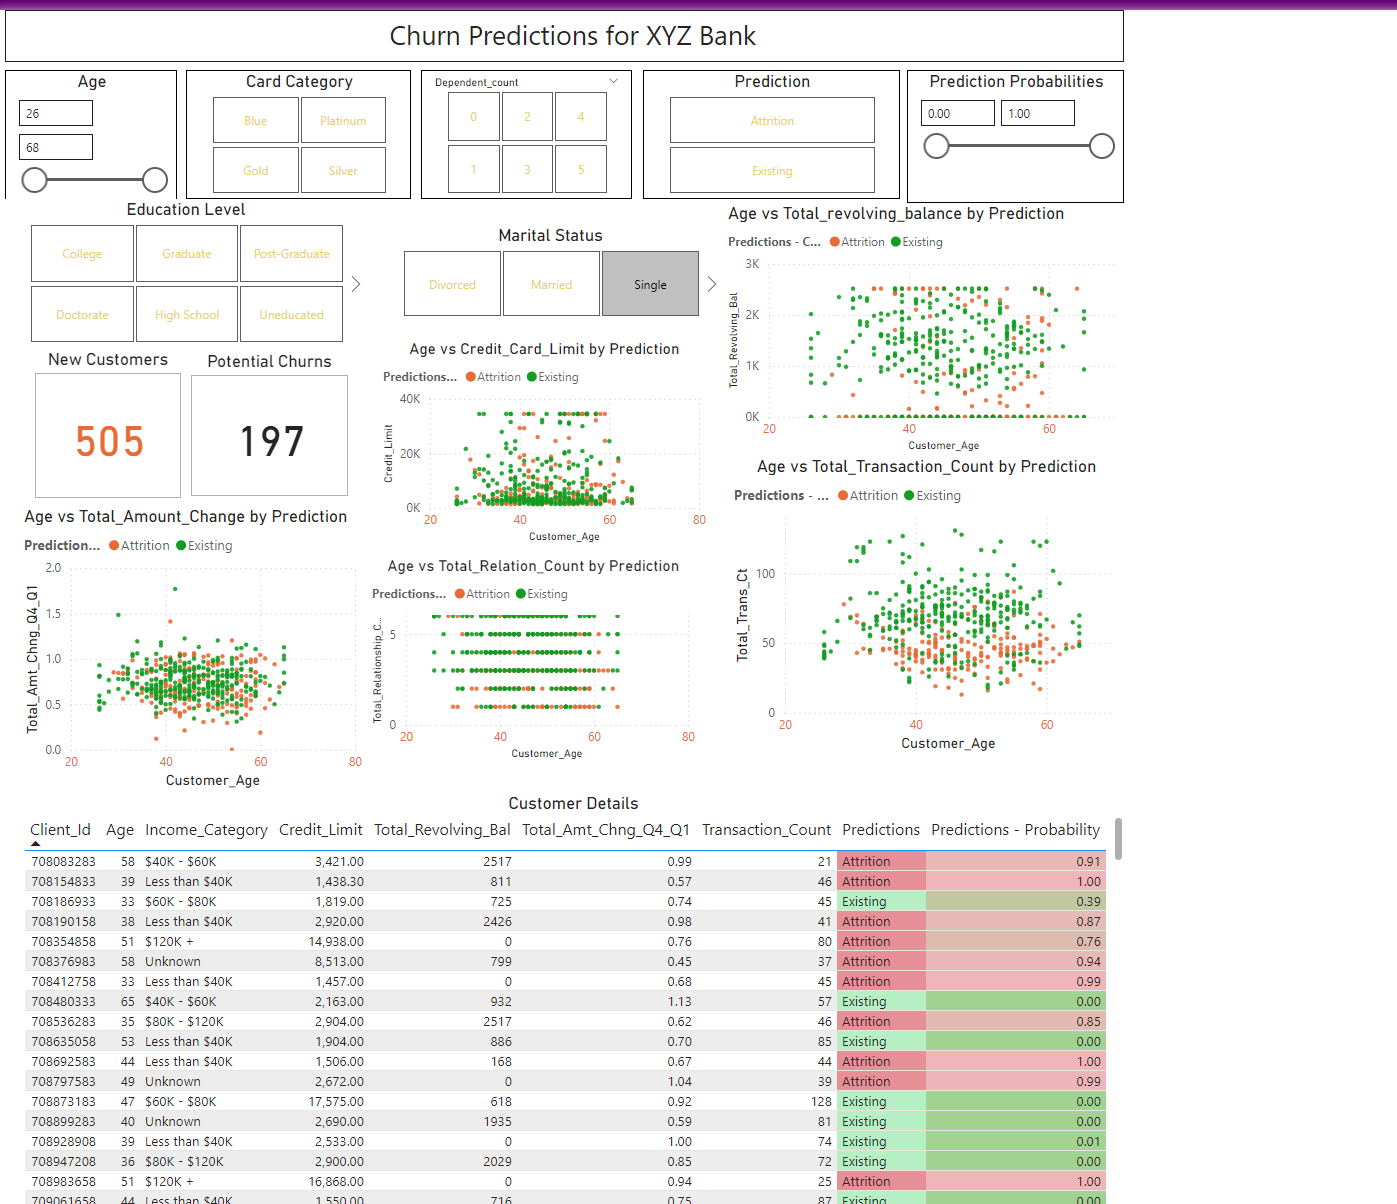

This screenshot's page, from the dashboard's own definition file:
{"tool":"powerbi","page":{"name":"Churn prediction for new users","canvas":[1500,1300],"ordinal":2},"visuals":[{"type":"textbox","box":[10,0,1119,52],"z":0},{"type":"slicer","title":"Age","fields":{"Values":["ChurnPredictionsOutput.Customer_Age"]},"box":[10,60,172,137],"z":1000},{"type":"slicer","title":"Marital Status","fields":{"Values":["ChurnPredictionsOutput.Marital_Status"]},"box":[383,215,345,98],"z":2000},{"type":"slicer","fields":{"Values":["ChurnPredictionsOutput.Dependent_count"]},"box":[426,60,211,129],"z":3000},{"type":"slicer","title":"Education Level","fields":{"Values":["ChurnPredictionsOutput.Education_Level"]},"box":[10,189,362,150],"z":4000},{"type":"slicer","title":"Card Category","fields":{"Values":["ChurnPredictionsOutput.Card_Category"]},"box":[191,60,225,129],"z":5000},{"type":"slicer","title":"Prediction","fields":{"Values":["ChurnPredictionsOutput.Predictions - Churn or Not Desc"]},"box":[648,60,257,129],"z":6000},{"type":"slicer","title":"Prediction Probabilities","fields":{"Values":["ChurnPredictionsOutput.Predictions - Probability to Churn"]},"box":[912,60,217,133],"z":7000},{"type":"cardVisual","title":"Potential Churns","fields":{"Data":["Sum(ChurnPredictionsOutput.Predictions - Churn or Not)"]},"box":[191,341,167,150],"z":8000},{"type":"tableEx","title":"Customer Details","fields":{"Values":["ChurnPredictionsOutput.CLIENTNUM","ChurnPredictionsOutput.Customer_Age","ChurnPredictionsOutput.Income_Category","ChurnPredictionsOutput.Credit_Limit","ChurnPredictionsOutput.Total_Revolving_Bal","ChurnPredictionsOutput.Total_Amt_Chng_Q4_Q1","ChurnPredictionsOutput.Total_Trans_Ct","ChurnPredictionsOutput.Predictions - Churn or Not Desc","ChurnPredictionsOutput.Predictions - Probability to Churn"]},"box":[24,783,1109,517],"z":9000},{"type":"scatterChart","title":"Age vs Total_Transaction_Count by Prediction","fields":{"X":["Sum(ChurnPredictionsOutput.Customer_Age)"],"Category":["ChurnPredictionsOutput.CLIENTNUM"],"Series":["ChurnPredictionsOutput.Predictions - Churn or Not Desc"],"Y":["Sum(ChurnPredictionsOutput.Total_Trans_Ct)"]},"box":[734,446,395,300],"z":10000},{"type":"scatterChart","title":"Age vs Total_Amount_Change by Prediction","fields":{"X":["Sum(ChurnPredictionsOutput.Customer_Age)"],"Category":["ChurnPredictionsOutput.CLIENTNUM"],"Series":["ChurnPredictionsOutput.Predictions - Churn or Not Desc"],"Y":["Sum(ChurnPredictionsOutput.Total_Amt_Chng_Q4_Q1)"]},"box":[24,496,348,287],"z":11000},{"type":"scatterChart","title":"Age vs Total_revolving_balance by Prediction","fields":{"X":["Sum(ChurnPredictionsOutput.Customer_Age)"],"Y":["Sum(ChurnPredictionsOutput.Total_Revolving_Bal)"],"Category":["ChurnPredictionsOutput.CLIENTNUM"],"Series":["ChurnPredictionsOutput.Predictions - Churn or Not Desc"]},"box":[728,193,408,253],"z":12000},{"type":"cardVisual","title":"New Customers","fields":{"Data":["CountNonNull(ChurnPredictionsOutput.CLIENTNUM)"]},"box":[35,339,156,154],"z":13000},{"type":"scatterChart","title":"Age vs Credit_Card_Limit by Prediction","fields":{"X":["Sum(ChurnPredictionsOutput.Customer_Age)"],"Category":["ChurnPredictionsOutput.CLIENTNUM"],"Series":["ChurnPredictionsOutput.Predictions - Churn or Not Desc"],"Y":["Sum(ChurnPredictionsOutput.Credit_Limit)"]},"box":[383,329,333,208],"z":14000},{"type":"scatterChart","title":"Age vs Total_Relation_Count by Prediction","fields":{"X":["Sum(ChurnPredictionsOutput.Customer_Age)"],"Category":["ChurnPredictionsOutput.CLIENTNUM"],"Series":["ChurnPredictionsOutput.Predictions - Churn or Not Desc"],"Y":["Sum(ChurnPredictionsOutput.Total_Relationship_Count)"]},"box":[372,546,333,208],"z":15000}]}

Visuals, with their boxes in screenshot pixels (x1, y1, x2, y2), scaled from the page's 1500x1300 canvas onto the 1397x1204 screenshot:
textbox: [9, 0, 1051, 48]
"Age" slicer: [9, 56, 170, 182]
"Marital Status" slicer: [357, 199, 678, 290]
slicer - ChurnPredictionsOutput.Dependent_count: [397, 56, 593, 175]
"Education Level" slicer: [9, 175, 346, 314]
"Card Category" slicer: [178, 56, 387, 175]
"Prediction" slicer: [604, 56, 843, 175]
"Prediction Probabilities" slicer: [849, 56, 1051, 179]
"Potential Churns" cardVisual: [178, 316, 333, 455]
"Customer Details" tableEx: [22, 725, 1055, 1203]
"Age vs Total_Transaction_Count by Prediction" scatterChart: [684, 413, 1051, 691]
"Age vs Total_Amount_Change by Prediction" scatterChart: [22, 459, 346, 725]
"Age vs Total_revolving_balance by Prediction" scatterChart: [678, 179, 1058, 413]
"New Customers" cardVisual: [33, 314, 178, 457]
"Age vs Credit_Card_Limit by Prediction" scatterChart: [357, 305, 667, 497]
"Age vs Total_Relation_Count by Prediction" scatterChart: [346, 506, 657, 698]
